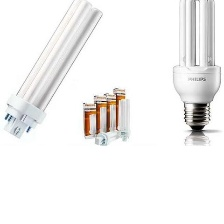carton: (111, 84, 128, 134), (101, 91, 119, 134), (92, 93, 110, 136), (81, 100, 98, 140)
light_bulb: (2, 0, 107, 140), (171, 0, 224, 135), (117, 97, 132, 142), (90, 129, 123, 148)
